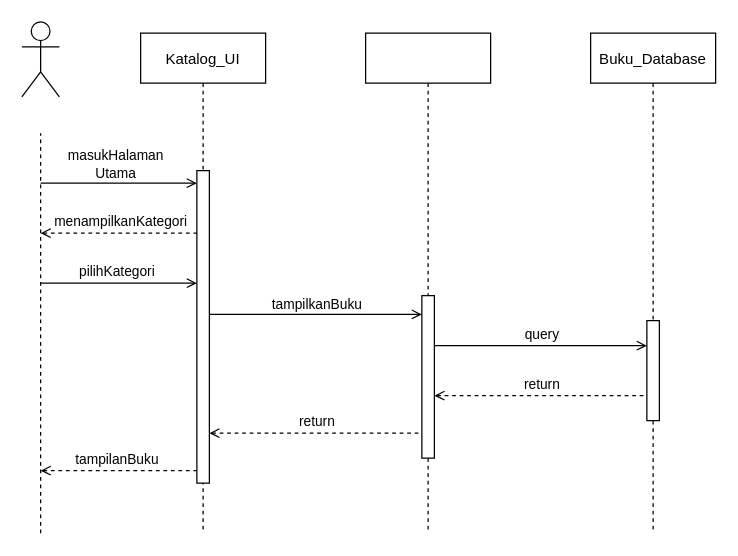
The diagram is 738 pixels wide and 556 high, and some of its shapes have lost their labels. The shapes that lost their labels are listed below. From the top down, each one's centre as x and y in pixels, then its label:
[40,59]: User
[427,282]: Katalog_ Controller
